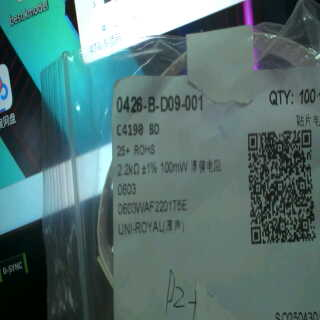2.2kR: (114, 158, 142, 181)
